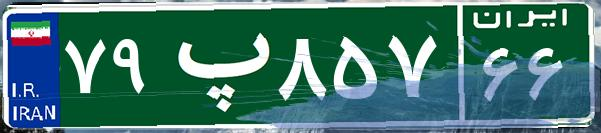5: (330, 28, 385, 110)
6: (475, 38, 525, 113), (525, 38, 570, 115)
7: (385, 28, 445, 110), (57, 26, 110, 107)
8: (273, 28, 330, 110)
9: (110, 28, 158, 105)
پ: (158, 15, 273, 115)
